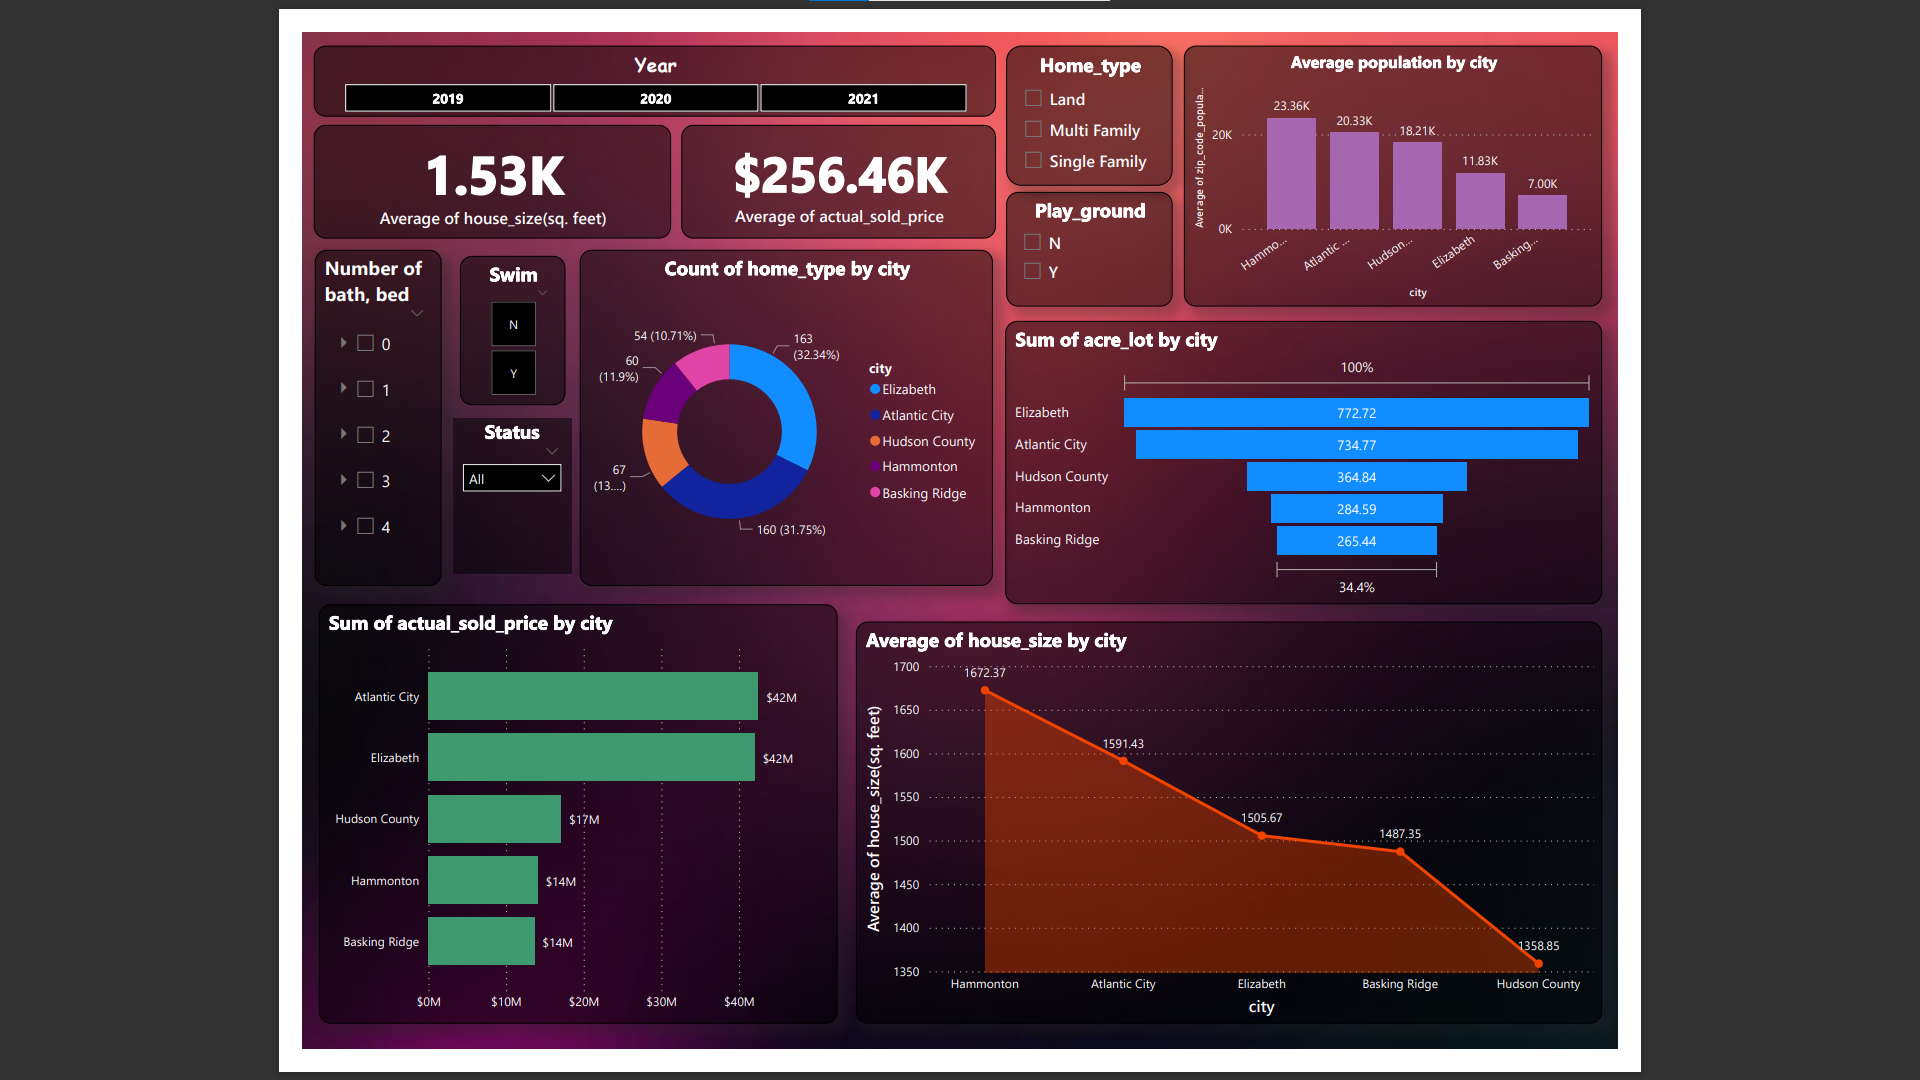

The page's visual inventory and layout, read from the dashboard file:
{"tool":"powerbi","page":{"name":"Page 1","canvas":[1295,1000],"ordinal":0},"visuals":[{"type":"card","fields":{"Values":["Avg(house_details.house_size)"]},"box":[11.4,91.4,351.4,111.4],"z":0},{"type":"card","fields":{"Values":["Avg(dates_price.actual_sold_price)"]},"box":[372.9,91.4,310,111.4],"z":1000},{"type":"slicer","title":"Home_type","fields":{"Values":["house_details.home_type"]},"box":[692.9,12.9,164.3,138.6],"z":2000},{"type":"slicer","title":"Year","fields":{"Values":["dates_price.Year"]},"box":[11.4,12.9,671.4,70],"z":3000},{"type":"slicer","title":"Status","fields":{"Values":["dates_price.status"]},"box":[147.9,379.8,117,153.2],"z":4000},{"type":"clusteredBarChart","title":"Sum of actual_sold_price by city","fields":{"Category":["house_details.city"],"Y":["Sum(dates_price.actual_sold_price)"]},"box":[15.7,562.7,511.8,413.7],"z":5000},{"type":"donutChart","title":"Count of home_type by city","fields":{"Category":["dates_price.house_details.city"],"Y":["CountNonNull(house_details.home_type)"]},"box":[272.5,213.7,407.8,331.4],"z":6000},{"type":"slicer","title":"Swim","fields":{"Values":["house_details.swming_tank"]},"box":[154.9,219.6,103.9,147.1],"z":7000},{"type":"slicer","title":"Number of bath, bed","fields":{"Values":["house_details.bath","house_details.bed"]},"box":[11.8,213.7,125.5,331.4],"z":8000},{"type":"areaChart","title":"Average of house_size by city","fields":{"Category":["house_details.city"],"Y":["Avg(house_details.house_size)"]},"box":[545.1,580.4,735.3,396.1],"z":9000},{"type":"slicer","title":"Play_ground","fields":{"Values":["house_details.play_ground"]},"box":[692.9,157.1,164.3,112.9],"z":10000},{"type":"funnel","title":"Sum of acre_lot by city","fields":{"Category":["house_details.city"],"Y":["Sum(dates_price.house_details.acre_lot)"]},"box":[692.2,284.3,588.2,278.4],"z":11000},{"type":"columnChart","title":"Average population by city","fields":{"Category":["zip.city"],"Y":["Avg(zip.zip_code_population)"]},"box":[868,13,412,257],"z":12000}]}

Visuals, with their boxes on the page's 1295x1000 design canvas (x1, y1, x2, y2). These are canvas units, not pixel positions in the 1920x1080 screenshot, which may show the page scaled, cropped or inside an application window:
card - Avg(house_details.house_size): [11, 91, 363, 203]
card - Avg(dates_price.actual_sold_price): [373, 91, 683, 203]
"Home_type" slicer: [693, 13, 857, 152]
"Year" slicer: [11, 13, 683, 83]
"Status" slicer: [148, 380, 265, 533]
"Sum of actual_sold_price by city" clusteredBarChart: [16, 563, 528, 976]
"Count of home_type by city" donutChart: [272, 214, 680, 545]
"Swim" slicer: [155, 220, 259, 367]
"Number of bath, bed" slicer: [12, 214, 137, 545]
"Average of house_size by city" areaChart: [545, 580, 1280, 976]
"Play_ground" slicer: [693, 157, 857, 270]
"Sum of acre_lot by city" funnel: [692, 284, 1280, 563]
"Average population by city" columnChart: [868, 13, 1280, 270]
